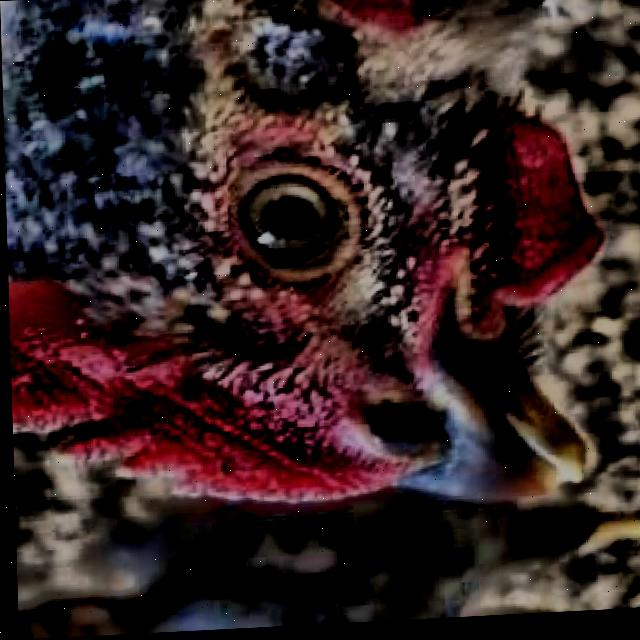Healthy: (215, 137, 358, 304)
